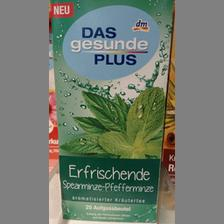Tee: (49, 0, 173, 224)
